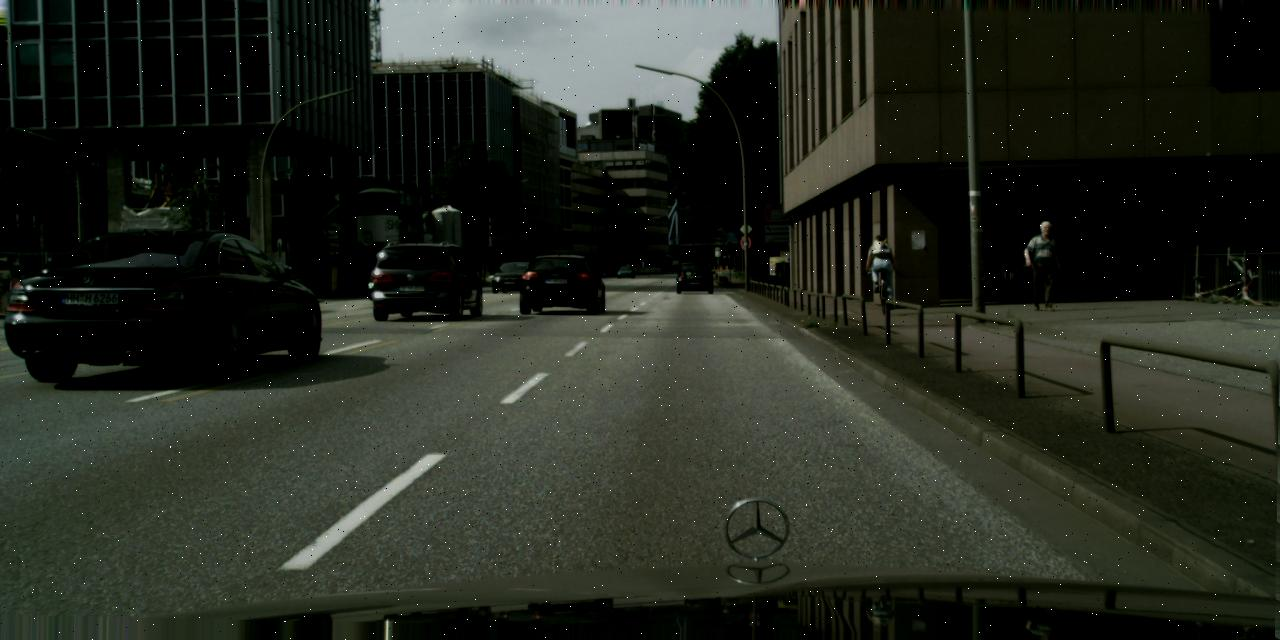ped: (1025, 219, 1062, 310), (868, 234, 894, 300)
